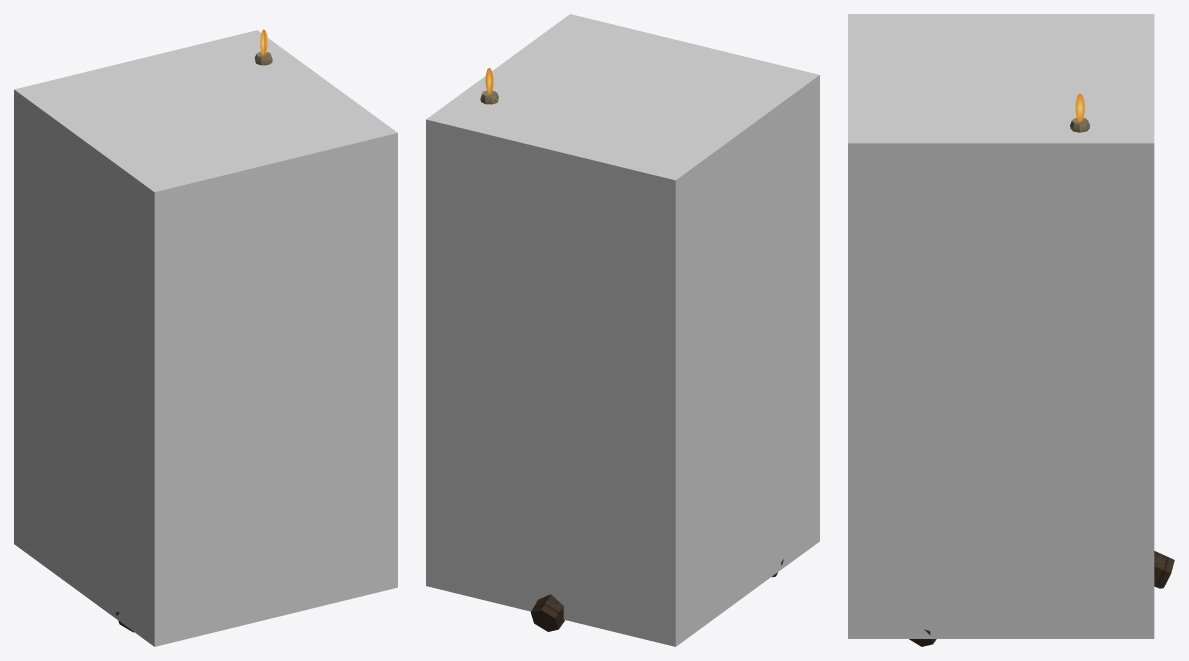
The model's file is lectern_book_v1.glb.
3 renders of one model, left to right at view 1: azimuth 30°, elevation 25°; view 2: azimuth 150°, elevation 25°; view 3: azimuth 270°, elevation 25°, orthographic. The views are drawn at different scales.
Visible parts, largest first — view 1: col_lectern; view 2: col_lectern, lectern; view 3: col_lectern, lectern.
Boxes of the visible parts, left/top/right/bottom form: col_lectern: left=14, top=30, right=397, bottom=646; col_lectern: left=426, top=14, right=819, bottom=646; lectern: left=480, top=68, right=783, bottom=631; col_lectern: left=848, top=14, right=1154, bottom=638; lectern: left=909, top=93, right=1174, bottom=646.
Size of the model in its own units: 0.7073 by 1.41 by 0.7468.
Materials: 7 (7 with a texture image).
